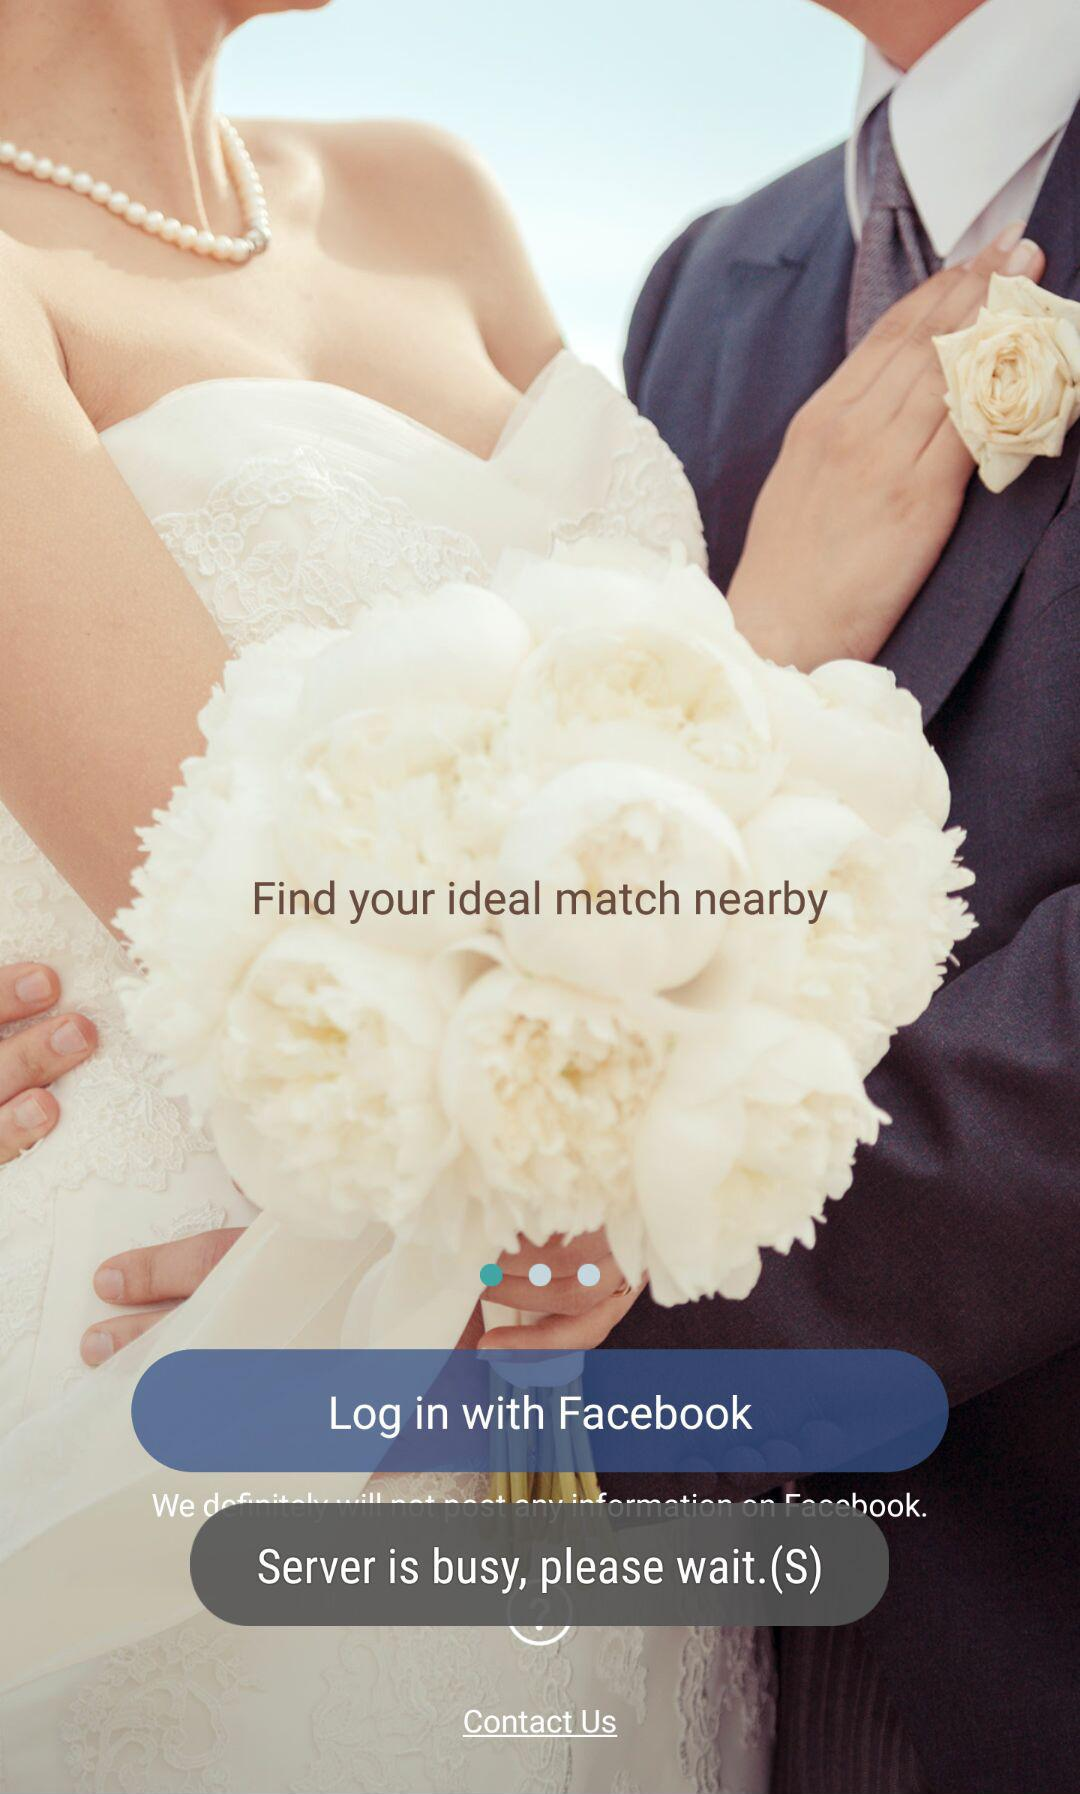BackgroundImage: (1, 1, 1080, 1794)
PageIndicator: (478, 1262, 602, 1289)
Text: (254, 879, 829, 926), (462, 1708, 619, 1739)
TextButton: (131, 1349, 949, 1472)
